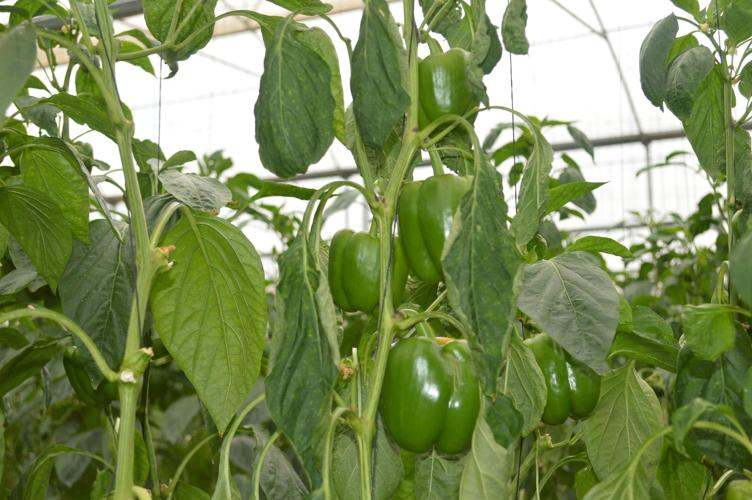BellPepper: (374, 328, 491, 455), (391, 176, 497, 281), (518, 320, 604, 436), (407, 46, 496, 141), (324, 225, 406, 322)
